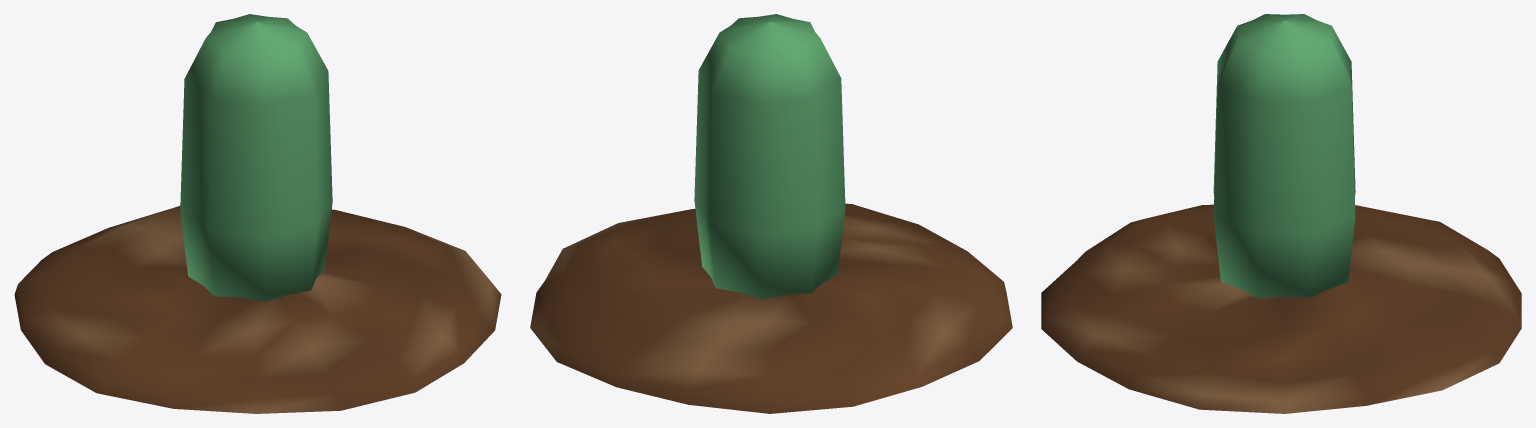
The model's file is plant-dragon-1.gltf.
3 views of the same model, side by side, from view 1: azimuth 30°, elevation 25°; view 2: azimuth 150°, elevation 25°; view 3: azimuth 270°, elevation 25° (orthographic).
Bounding box in the file's own units: 1.28 × 0.84 × 1.26.
